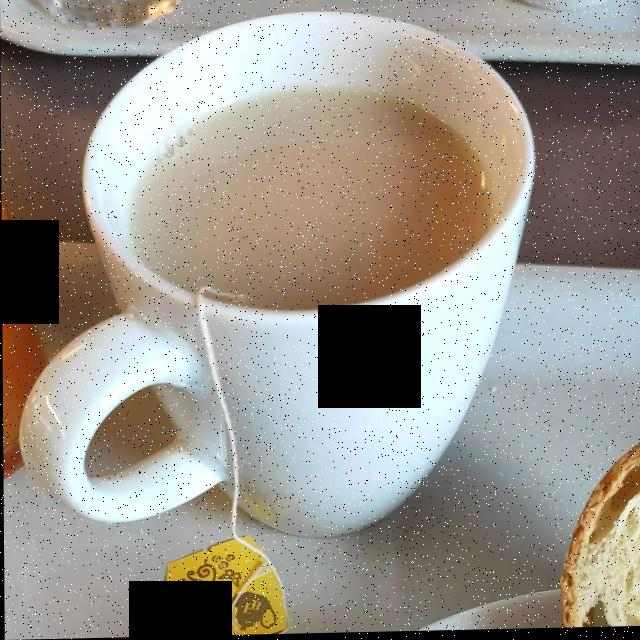tea-black: (135, 94, 482, 302)
